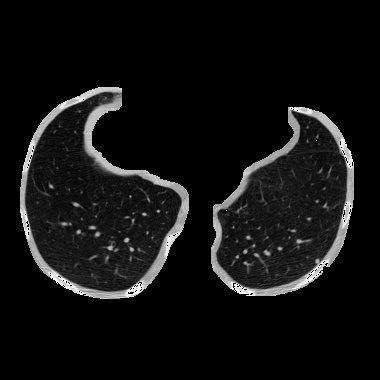PN: (315, 259, 319, 263)
